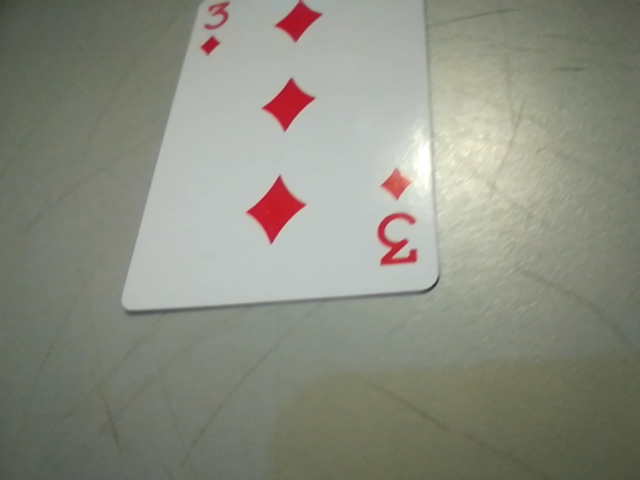fk 3: (361, 160, 432, 279)
